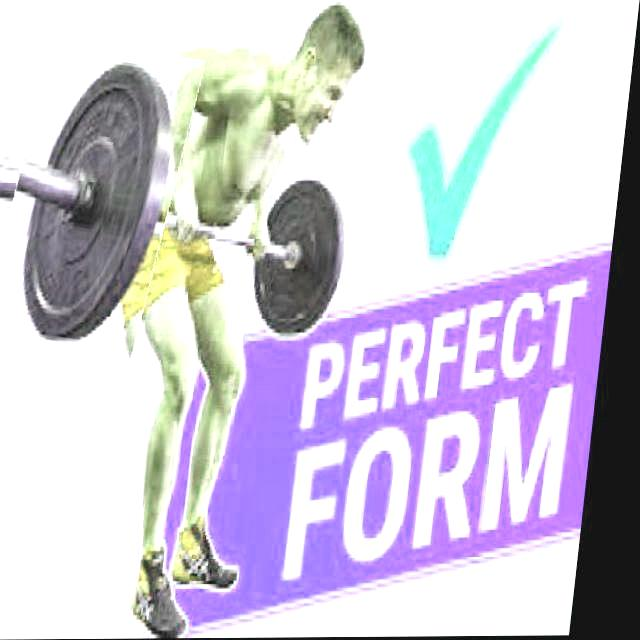barbell: (1, 45, 198, 360)
